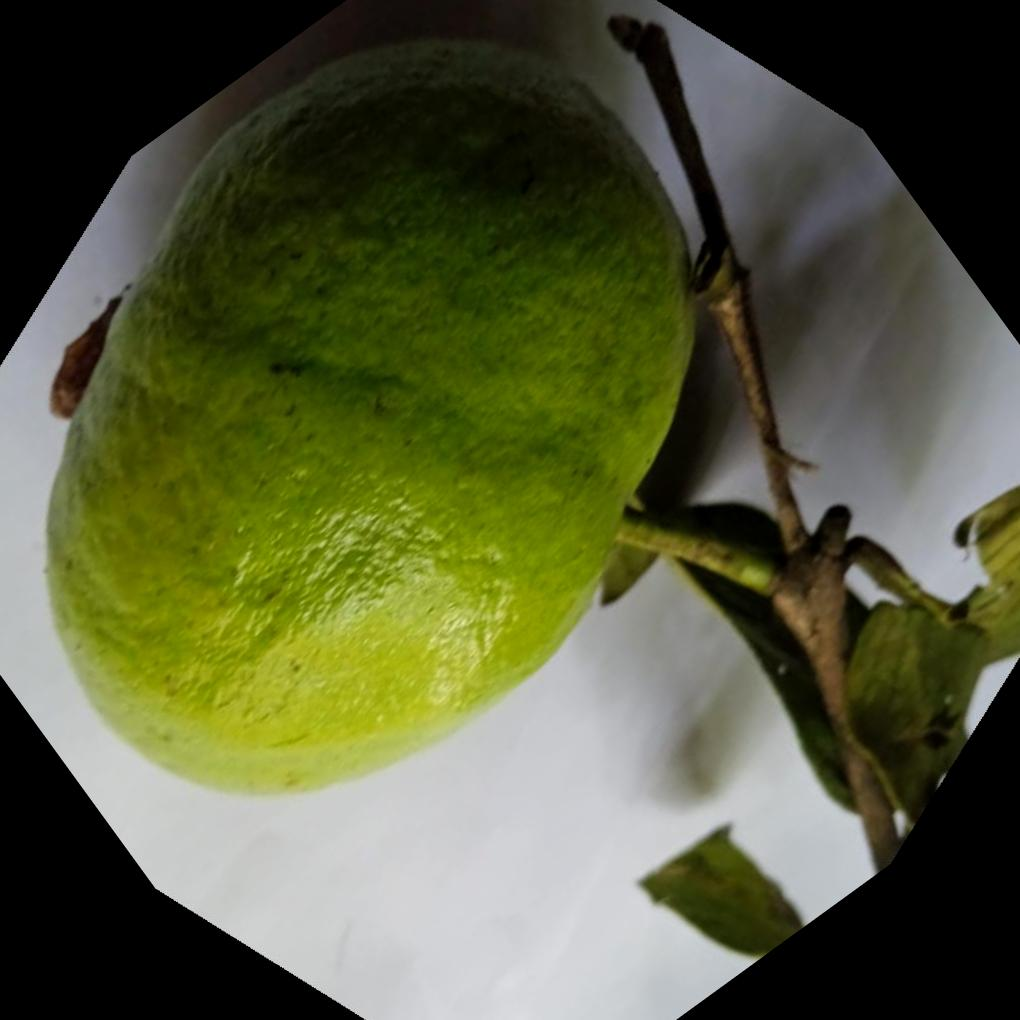FreshGuava: (41, 29, 695, 797)
